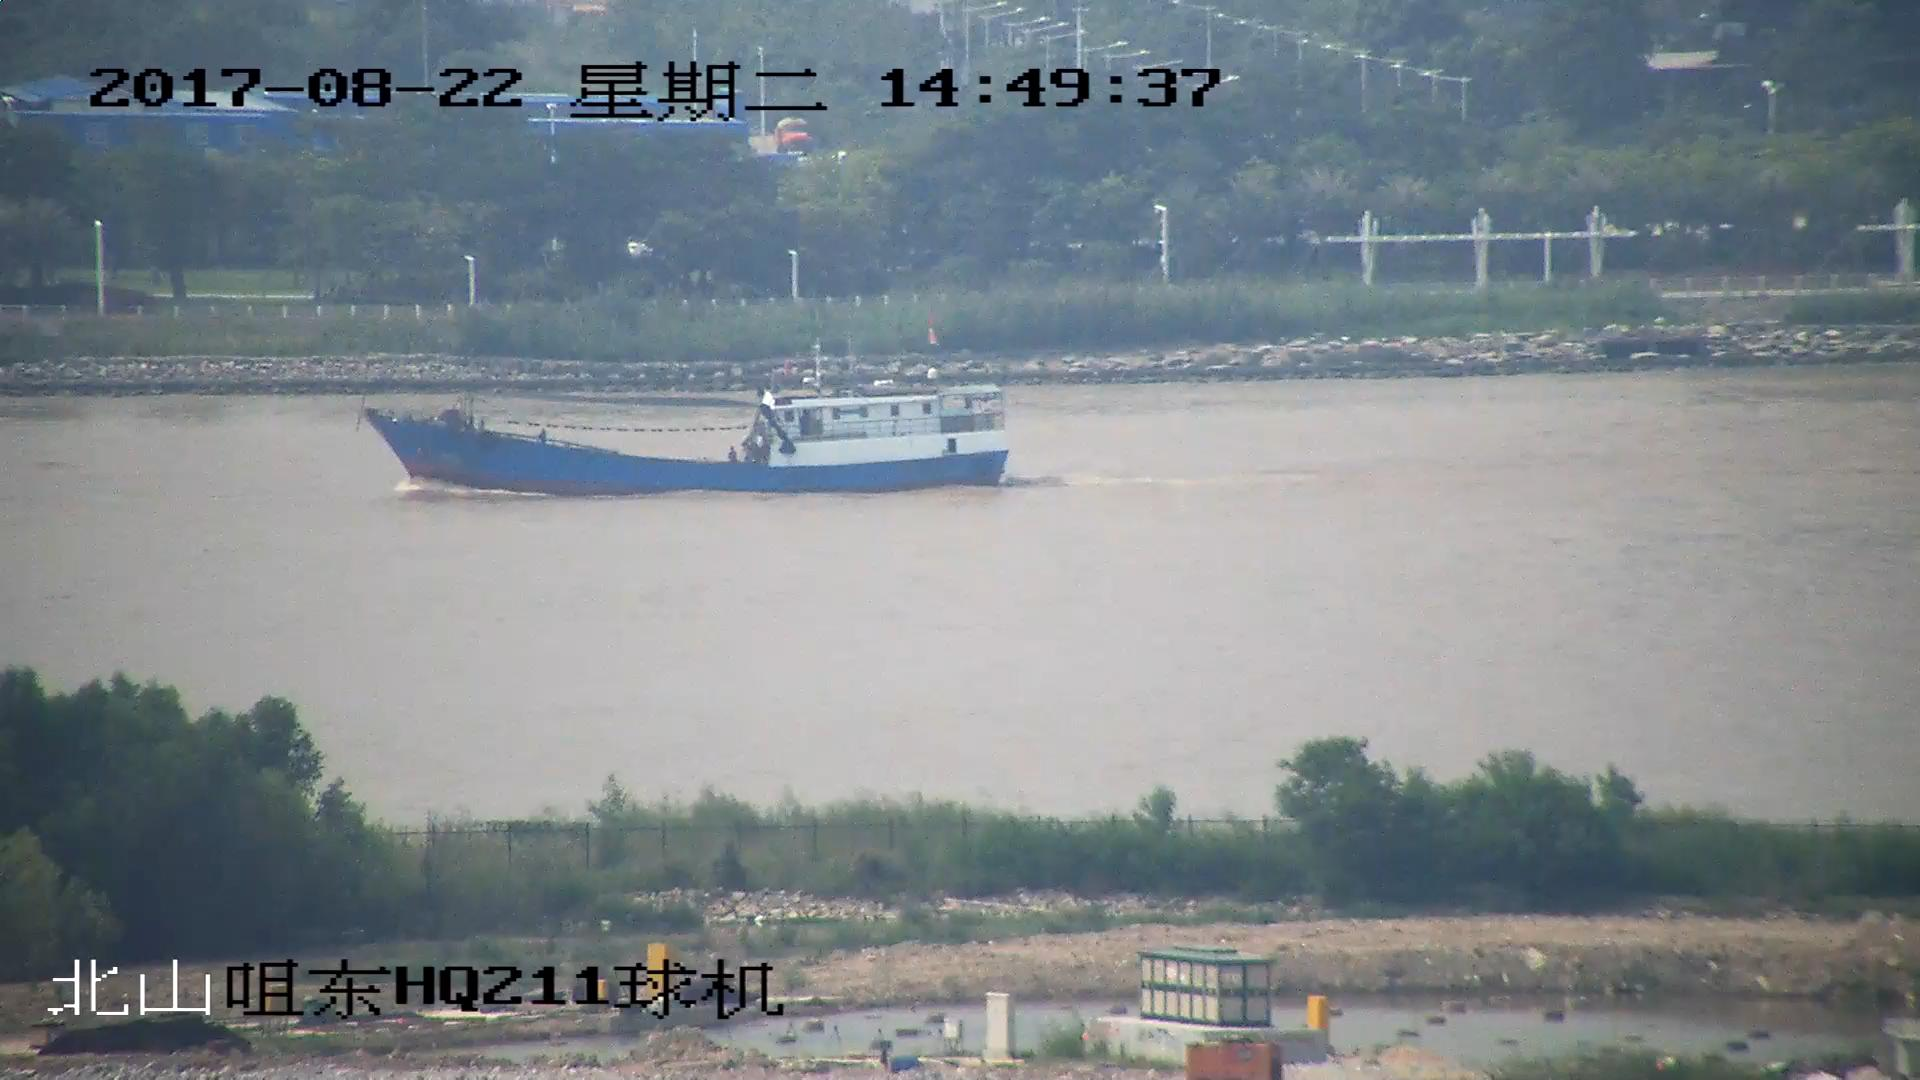fishing boat: (368, 319, 1009, 493)
